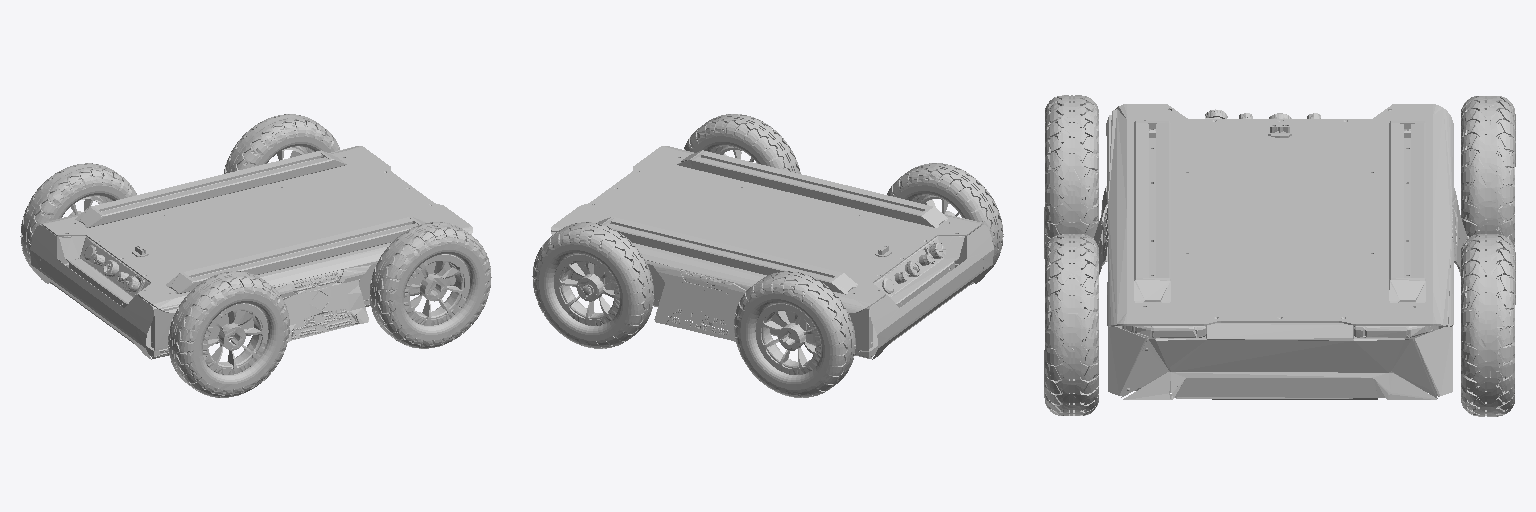
URDF robot description (yhs_chassis_description):
<robot name="yhs_chassis_description">
  <link name="base_link">
    <visual>
      <origin
        xyz="-0.3 0.25 0"
        rpy="1.57 0 0" />
      <geometry>
        <mesh
          filename="package://yhs_chassis_description/meshes/DGT-001mini.STL"/>
      </geometry>
      <material
        name="">
        <color
          rgba="0.8 0.8 0.8 1" />
      </material>
    </visual>
  </link>
</robot>

--- Render facts (derived) ---
Views: 3 orthographic renders of the robot side by side, from view 1: azimuth 30°, elevation 25°; view 2: azimuth 150°, elevation 25°; view 3: azimuth 270°, elevation 25°.
Model yhs_chassis_description with 1 links and 0 joints (none), rooted at base_link, posed every joint at zero.
Links seen in each view (by area): view 1: base_link; view 2: base_link; view 3: base_link.
Boxes of the visible links, box(x1,y1,x2,y2) form: base_link: box(20, 114, 491, 397); base_link: box(532, 114, 1003, 397); base_link: box(1044, 95, 1515, 416).
Bounding box of the posed robot: 0.5931 × 0.5169 × 0.2004 m (x, y, z).
1 mesh visuals loaded from 1 distinct referenced files (1 binary STL).